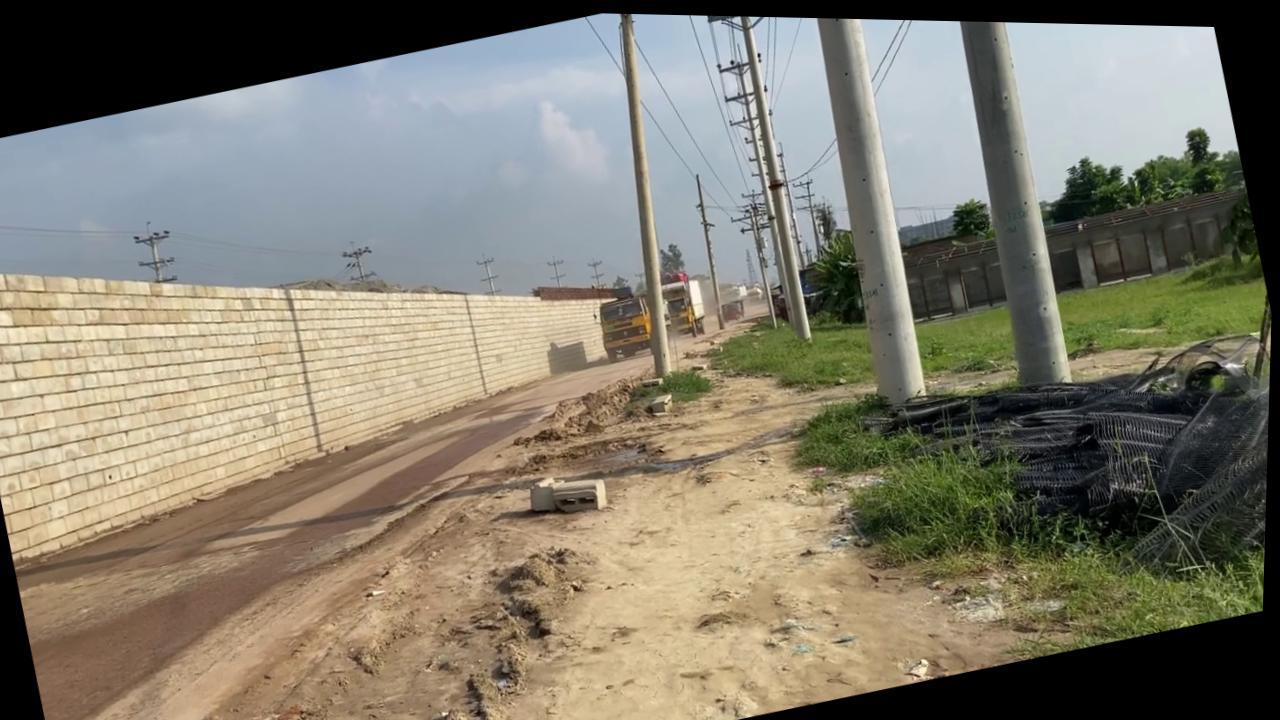Garbage: (850, 306, 1273, 637)
Muddy road: (0, 241, 1060, 720)
Obstacle: (526, 461, 613, 521), (647, 386, 677, 413)
Pole: (781, 14, 948, 405), (918, 16, 1088, 388), (692, 12, 856, 346), (574, 10, 716, 377), (715, 13, 825, 340)
Traffic-sign: (946, 189, 995, 240), (657, 236, 688, 274)
Tree: (589, 260, 715, 362), (592, 284, 660, 361), (657, 264, 712, 338), (715, 276, 751, 319)
Upstairs: (0, 125, 654, 578)
